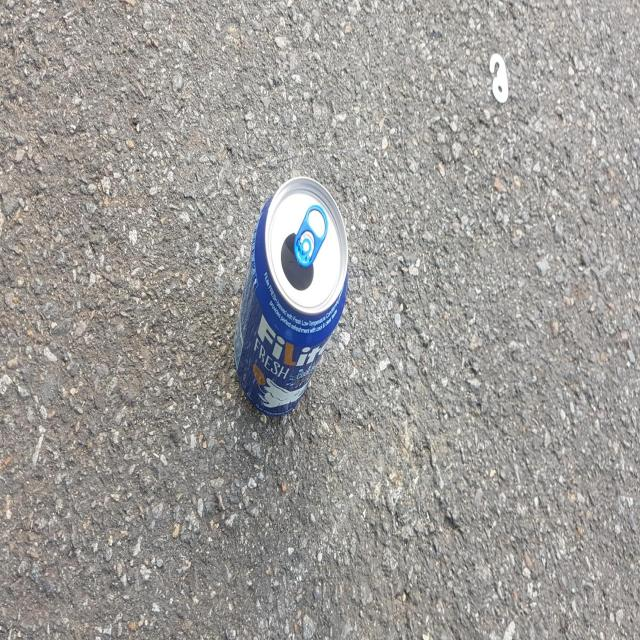can: (234, 175, 348, 415)
